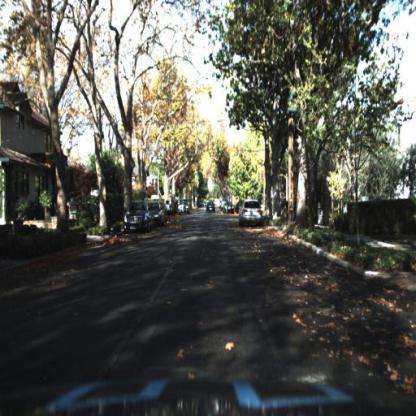car: (121, 193, 153, 236), (238, 200, 264, 230), (152, 194, 166, 228), (152, 200, 166, 230), (177, 197, 192, 215), (224, 202, 237, 218), (205, 201, 219, 214), (224, 200, 236, 215)
pedestrian: (165, 197, 174, 225), (165, 198, 173, 224)
